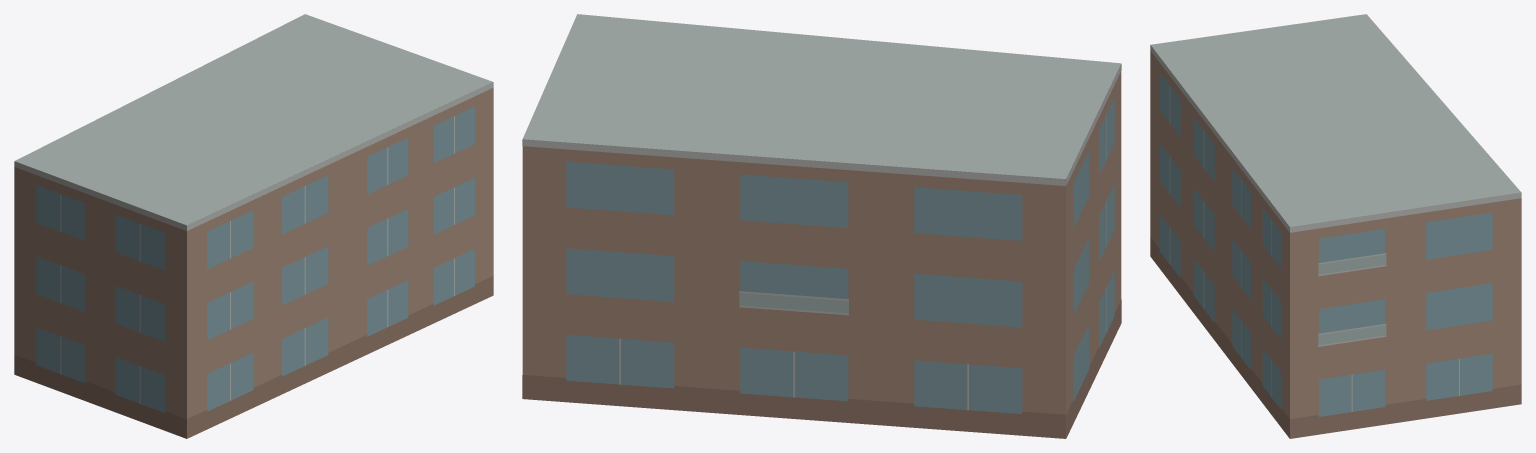
Rendered from survey-upis-32623927.glb.
3 renders of one model, left to right at view 1: azimuth 30°, elevation 25°; view 2: azimuth 150°, elevation 25°; view 3: azimuth 270°, elevation 25°, orthographic. The views are drawn at different scales.
Parts seen in each view (by area): view 1: survey-upis-32623927.tmp; view 2: survey-upis-32623927.tmp; view 3: survey-upis-32623927.tmp.
Boxes of the visible parts, x1,y1,x2,y2 form: survey-upis-32623927.tmp: (14, 14, 493, 438); survey-upis-32623927.tmp: (522, 14, 1121, 438); survey-upis-32623927.tmp: (1150, 14, 1521, 438).
Size of the model in its own units: 19.77 by 9.15 by 14.54.
